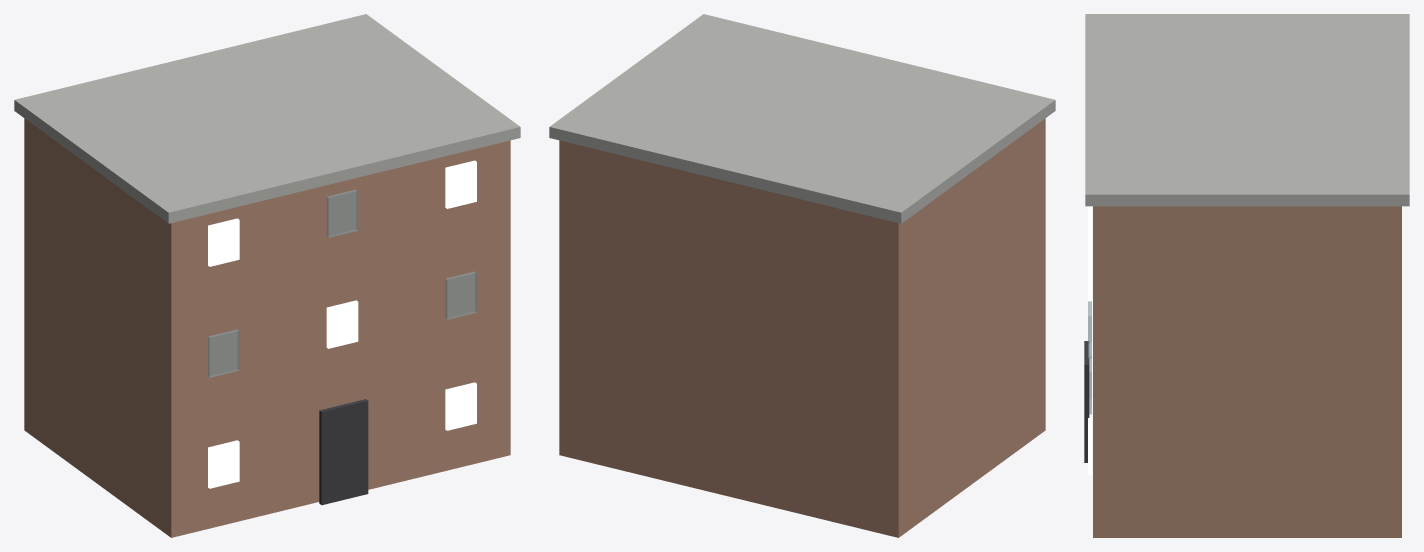
File: building_shop_01.glb
3 renders of one model, left to right at view 1: azimuth 30°, elevation 25°; view 2: azimuth 150°, elevation 25°; view 3: azimuth 270°, elevation 25°, orthographic. The views are drawn at different scales.
Visible parts, largest first — view 1: Mass, Roof, Door, W_1_1, W_2_1, W_0_2, W_0_0, W_2_0, W_2_2, W_1_0, W_1_2; view 2: Mass, Roof; view 3: Mass, Roof, Door.
Part boxes in pixels (left/top/right/bottom): Mass: left=24, top=118, right=510, bottom=537; Roof: left=14, top=14, right=520, bottom=223; Door: left=319, top=399, right=368, bottom=505; W_1_1: left=326, top=300, right=358, bottom=348; W_2_1: left=326, top=189, right=358, bottom=237; W_0_2: left=445, top=382, right=476, bottom=430; W_0_0: left=208, top=440, right=239, bottom=488; W_2_0: left=208, top=218, right=239, bottom=266; W_2_2: left=445, top=160, right=476, bottom=208; W_1_0: left=208, top=329, right=239, bottom=377; W_1_2: left=445, top=271, right=476, bottom=319; Mass: left=559, top=118, right=1045, bottom=537; Roof: left=549, top=14, right=1055, bottom=223; Mass: left=1093, top=206, right=1401, bottom=537; Roof: left=1085, top=14, right=1409, bottom=206; Door: left=1084, top=341, right=1089, bottom=462.
Size of the model in its own units: 8.3 by 7.43 by 6.32.
